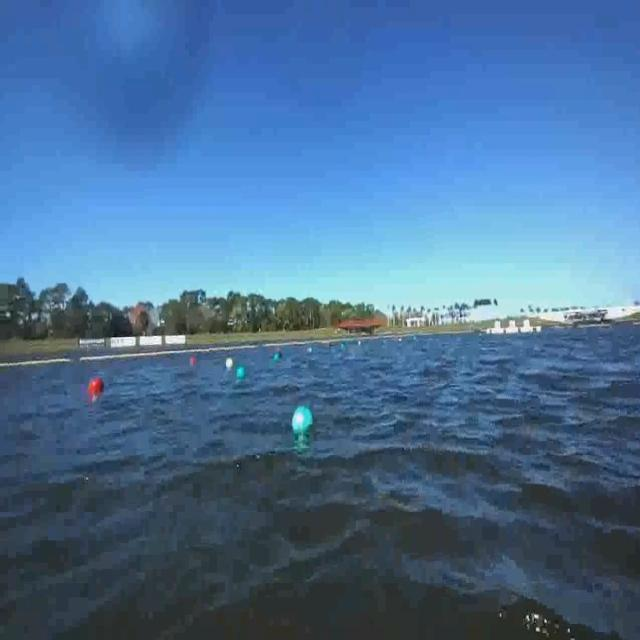green-buoy: (292, 407, 313, 436), (238, 364, 246, 378)
red-buoy: (90, 378, 106, 397), (188, 353, 200, 369)
